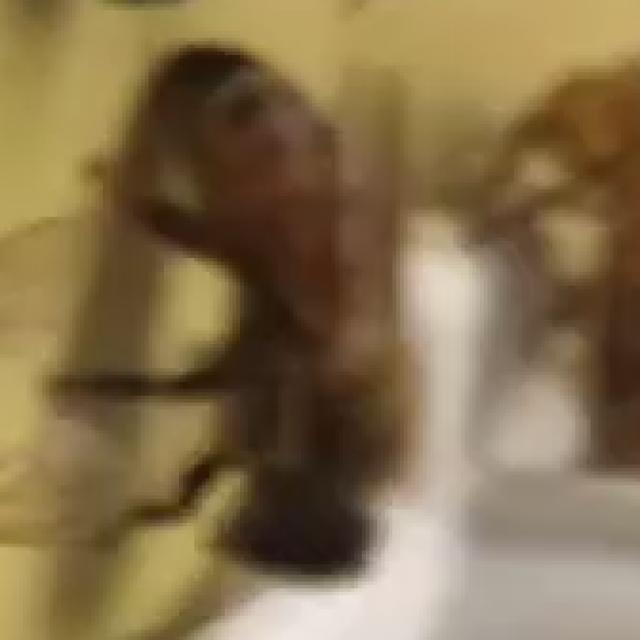honeybee: (84, 17, 415, 625)
